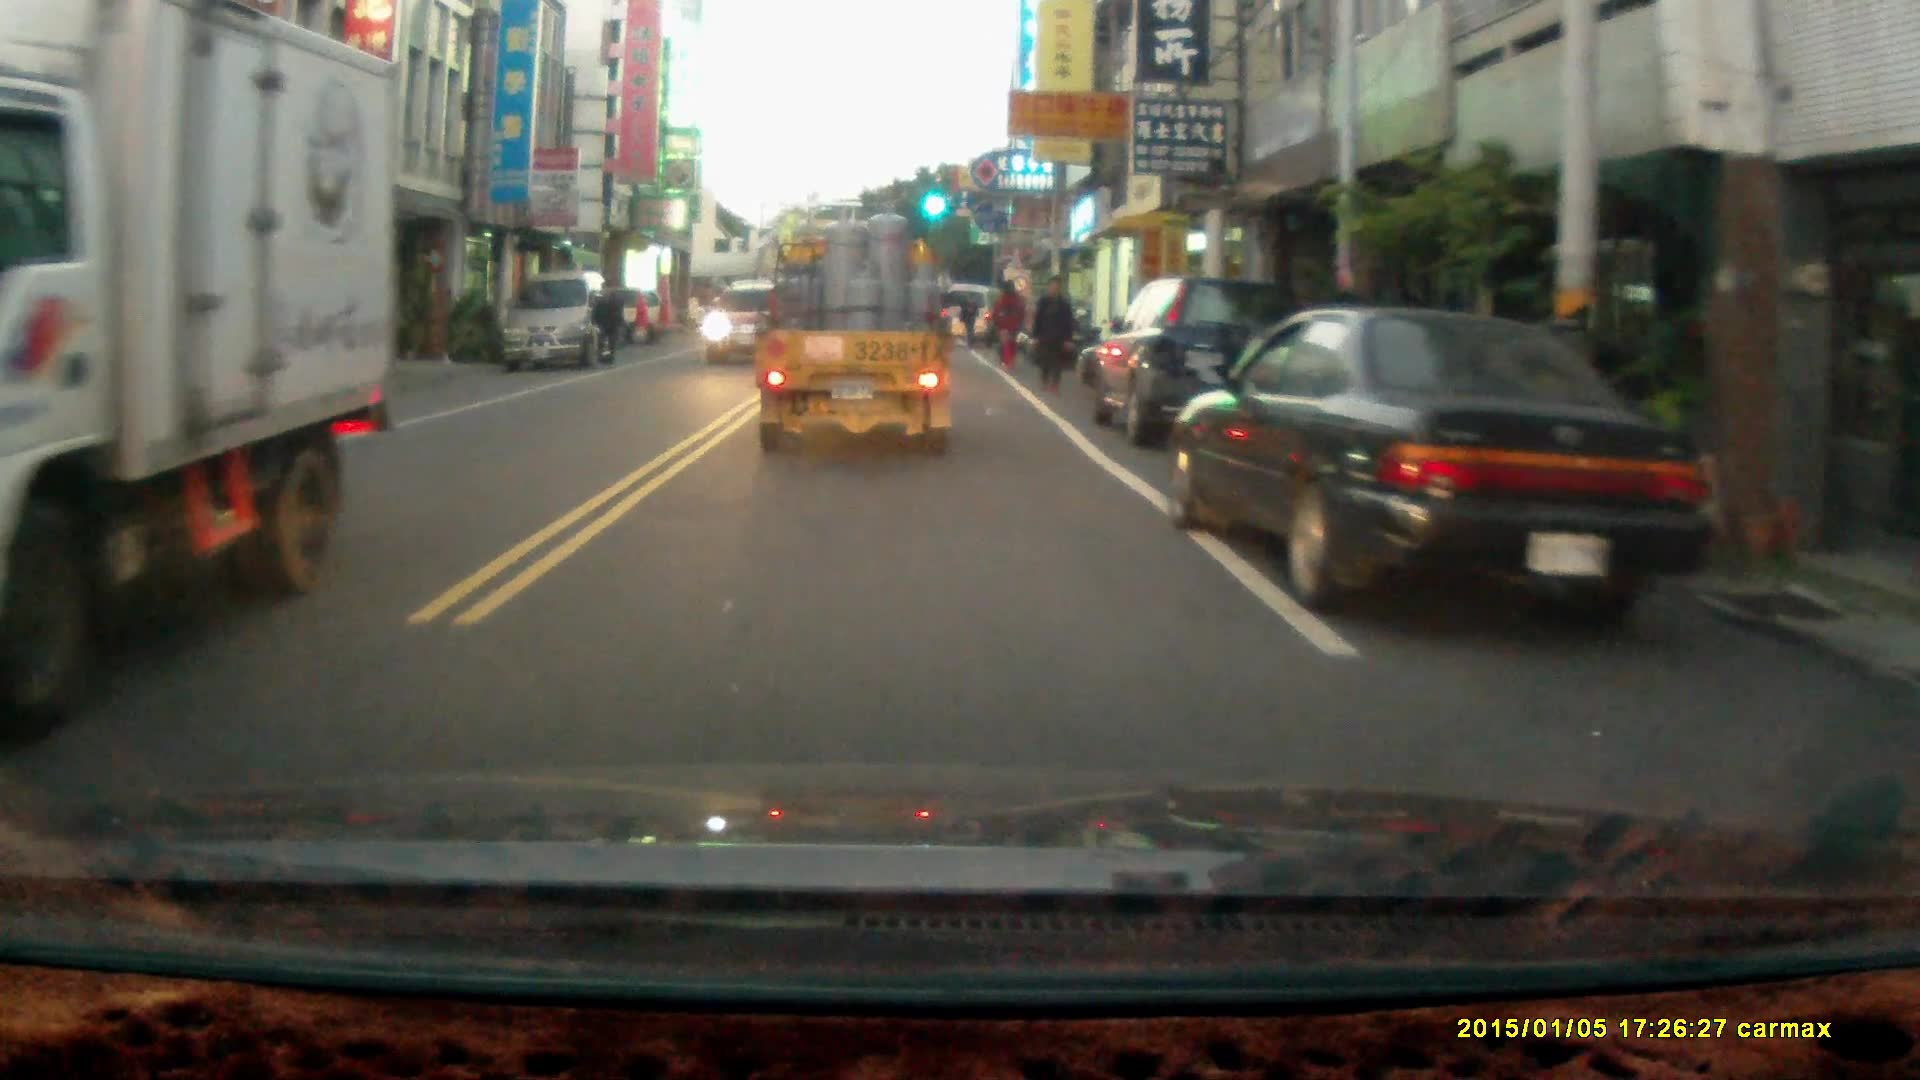pedestrian: (1026, 270, 1073, 395), (988, 278, 1025, 369), (589, 279, 623, 364), (957, 291, 978, 345)
vehicle: (1, 5, 394, 690), (1168, 306, 1725, 618), (749, 192, 960, 463), (1092, 276, 1312, 454), (501, 271, 617, 372), (697, 279, 784, 368)
